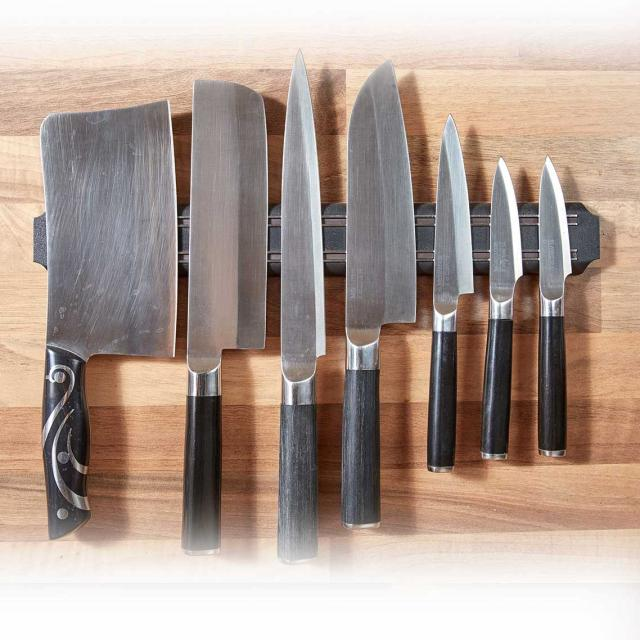Weapon: (40, 100, 177, 539), (182, 79, 267, 554), (341, 60, 416, 528), (277, 51, 325, 563), (428, 114, 474, 472), (480, 157, 522, 459), (538, 156, 571, 456)
